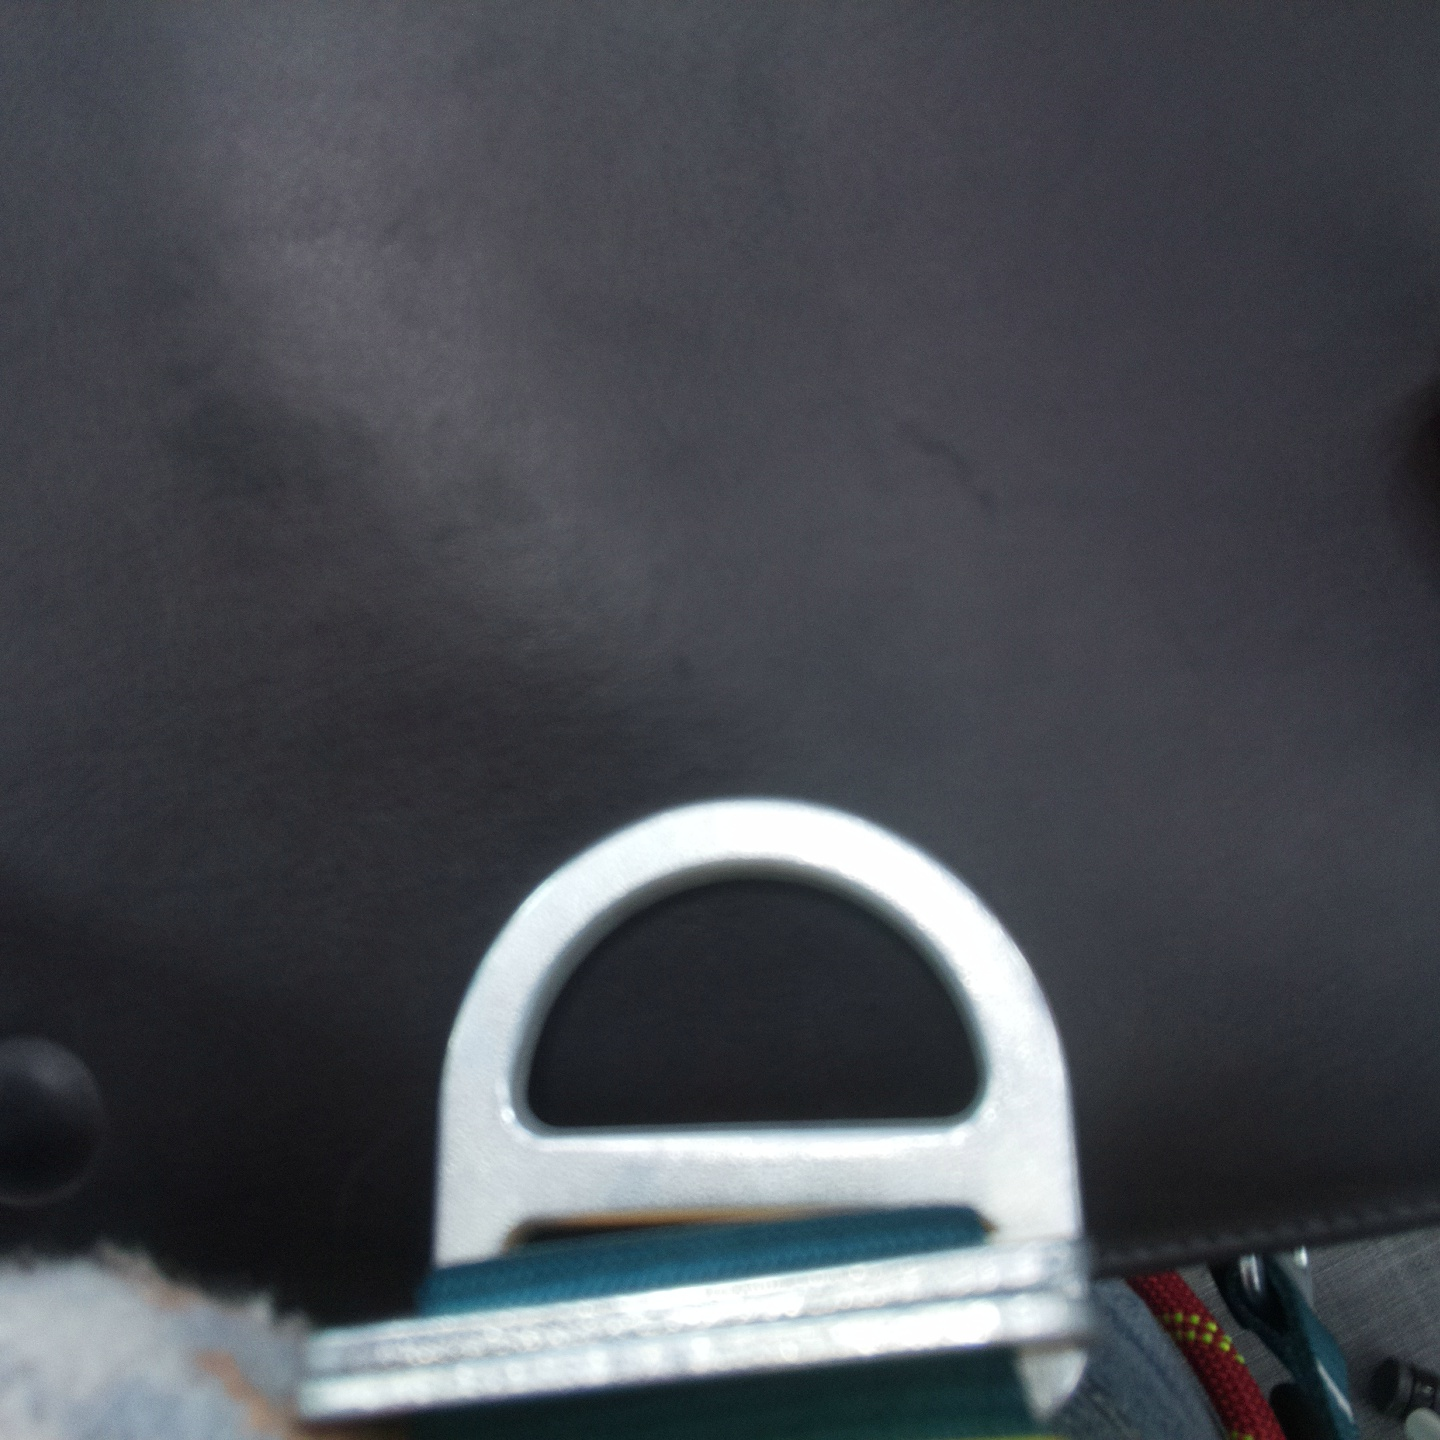UNSUCCESS: (418, 789, 1102, 1242)
